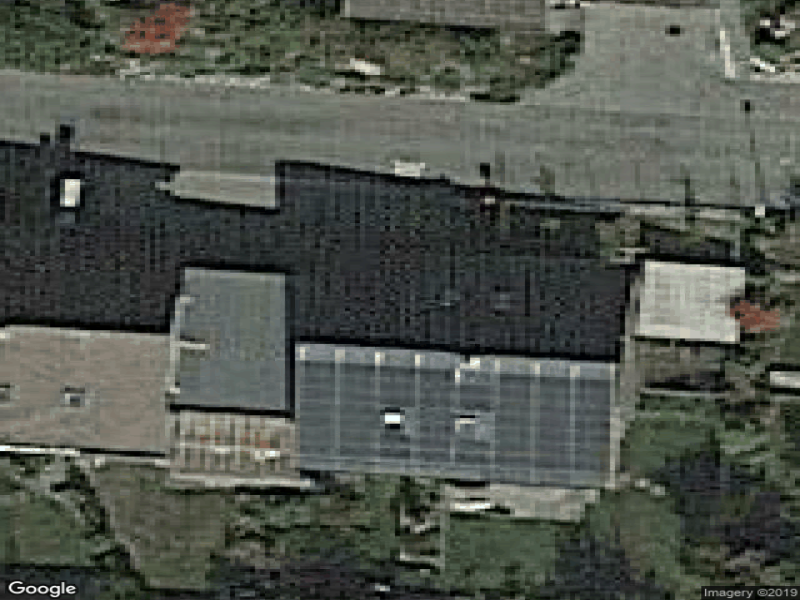pv: (296, 355, 616, 488)
